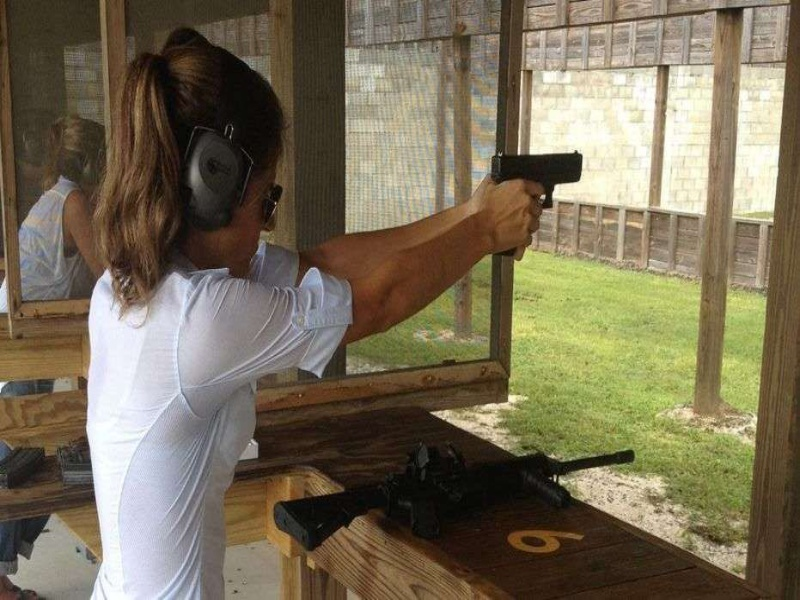gun: (272, 440, 641, 570), (477, 149, 587, 261)
